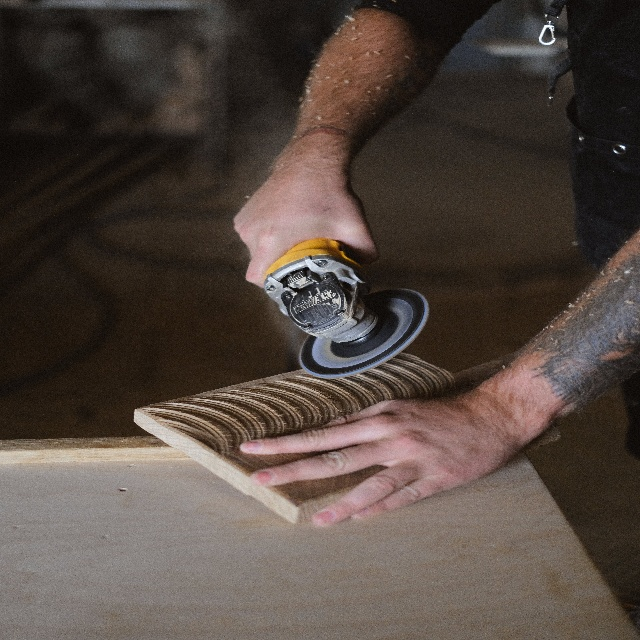Sin_guantes: (240, 378, 515, 523), (229, 141, 383, 288)
